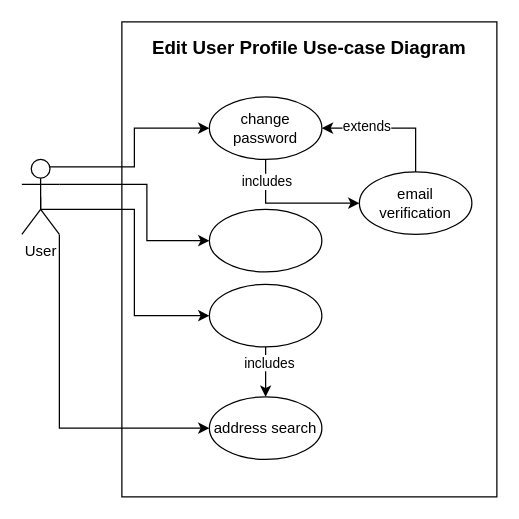
This 519x519 diagram has some shape labels left out. Here are the shapes that lost their labels. From the top down, the box of each, then its label:
(208, 208, 322, 272): register vehicle
(208, 283, 322, 347): set home address
